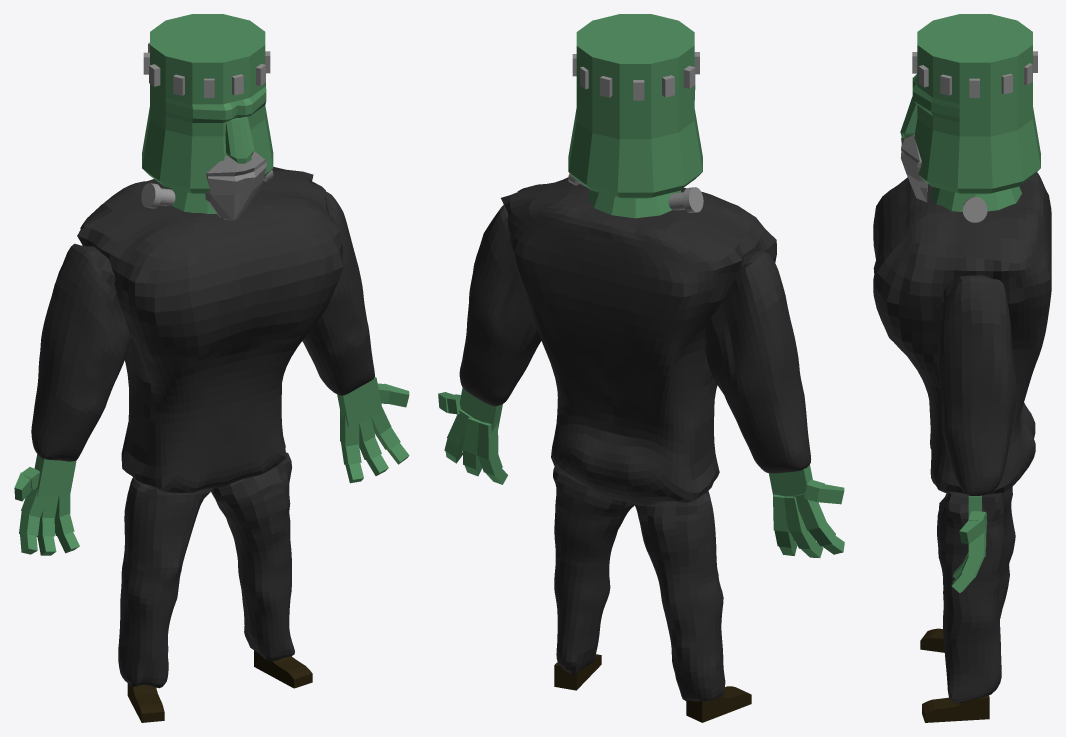
Rendered from Frankensteins-Monster.fbx.
The picture shows the model from 3 angles, left to right: view 1: azimuth 30°, elevation 25°; view 2: azimuth 150°, elevation 25°; view 3: azimuth 270°, elevation 25°; orthographic projection. The views are drawn at different scales.
Visible parts, largest first — view 1: Cube.009, Cube.011, Circle, Cube.008, Cube.012, Cube.010, Circle.001, Cube, Cube.015, Cube.027, Cube.014, Cube.001 (+3 smaller); view 2: Cube.009, Cube.011, Circle, Cube.008, Cube.012, Cube.010, Circle.001, Circle.002, Cube.013, Cube.027, Cube.015, Cube.014 (+3 smaller); view 3: Cube.009, Cube.010, Circle, Cube.012, Circle.001, Cube.014, Circle.002, Cube.008, Cube, Cylinder.001, Cube.013, Cube.017 (+2 smaller).
Part boxes in pixels (<box>): Cube.009: <box>77,167,343,492</box>; Cube.011: <box>31,243,131,461</box>; Circle: <box>150,14,266,136</box>; Cube.008: <box>118,477,212,688</box>; Cube.012: <box>211,452,294,661</box>; Cube.010: <box>302,191,374,395</box>; Circle.001: <box>142,106,273,194</box>; Cube: <box>205,151,266,220</box>; Cube.015: <box>337,377,382,427</box>; Cube.027: <box>34,454,76,496</box>; Cube.014: <box>254,650,312,688</box>; Cube.001: <box>225,116,254,163</box>; Cube.009: <box>501,177,776,505</box>; Cube.011: <box>703,249,811,473</box>; Circle: <box>576,14,695,139</box>; Cube.008: <box>634,491,725,701</box>; Cube.012: <box>553,466,634,674</box>; Cube.010: <box>459,205,541,406</box>; Circle.001: <box>568,108,702,198</box>; Circle.002: <box>588,190,681,218</box>; Cube.013: <box>686,686,751,722</box>; Cube.027: <box>768,465,812,501</box>; Cube.015: <box>459,387,502,432</box>; Cube.014: <box>554,654,601,690</box>; Cube.009: <box>873,172,1051,494</box>; Cube.010: <box>937,275,1017,495</box>; Circle: <box>912,14,1032,136</box>; Cube.012: <box>937,492,1004,703</box>; Circle.001: <box>914,107,1040,194</box>; Cube.014: <box>922,695,989,722</box>; Circle.002: <box>930,186,1021,211</box>; Cube.008: <box>999,487,1015,618</box>; Cube: <box>901,134,927,202</box>; Cylinder.001: <box>962,197,987,222</box>; Cube.013: <box>920,628,944,652</box>; Cube.017: <box>959,519,985,544</box>.
Size of the model in its own units: 408 by 635 by 159.
